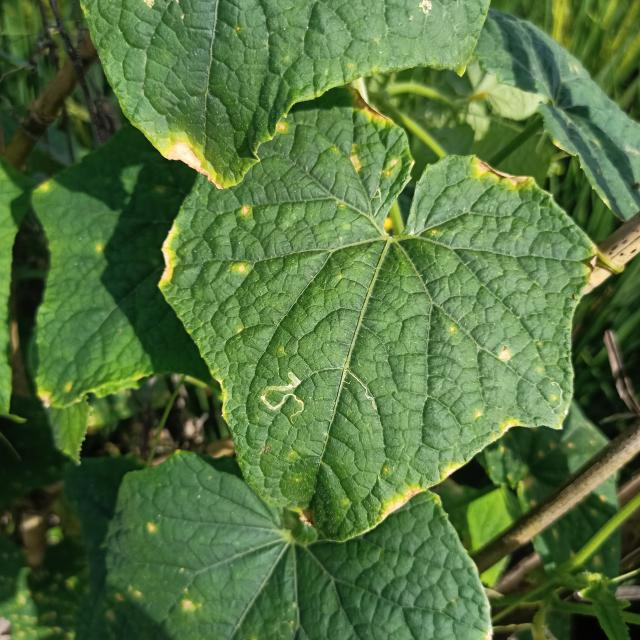disease_cucumber: (347, 108, 402, 184), (470, 408, 523, 437), (498, 344, 514, 366), (232, 259, 249, 279), (240, 204, 254, 223)
